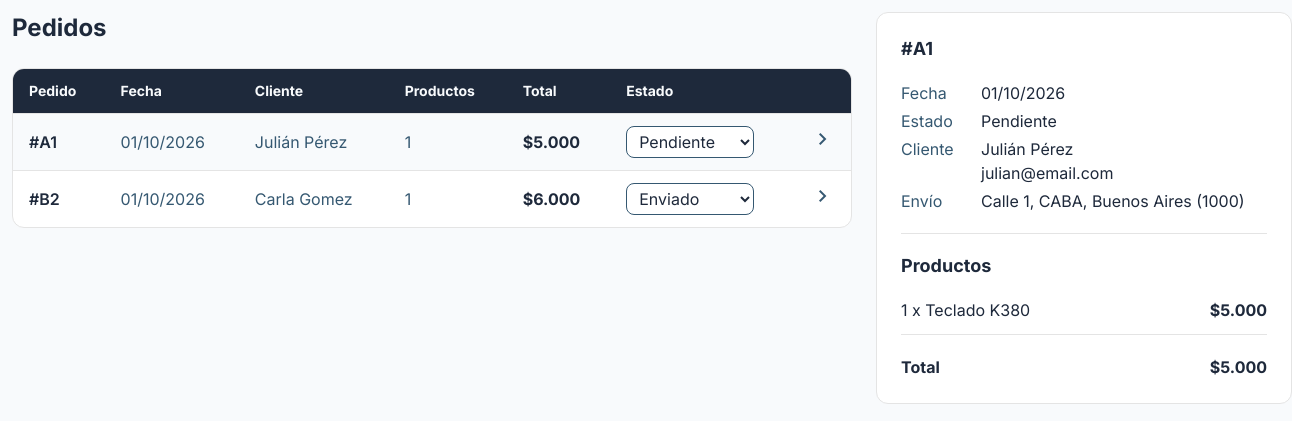
Test case: AdminOrdersPage › muestra un error y deja el estado anterior si falla la actualización
Select "Entregado" in the dropdown named "Estado del pedido #A1". click: (690, 142)
box: 626,126 -> 754,158
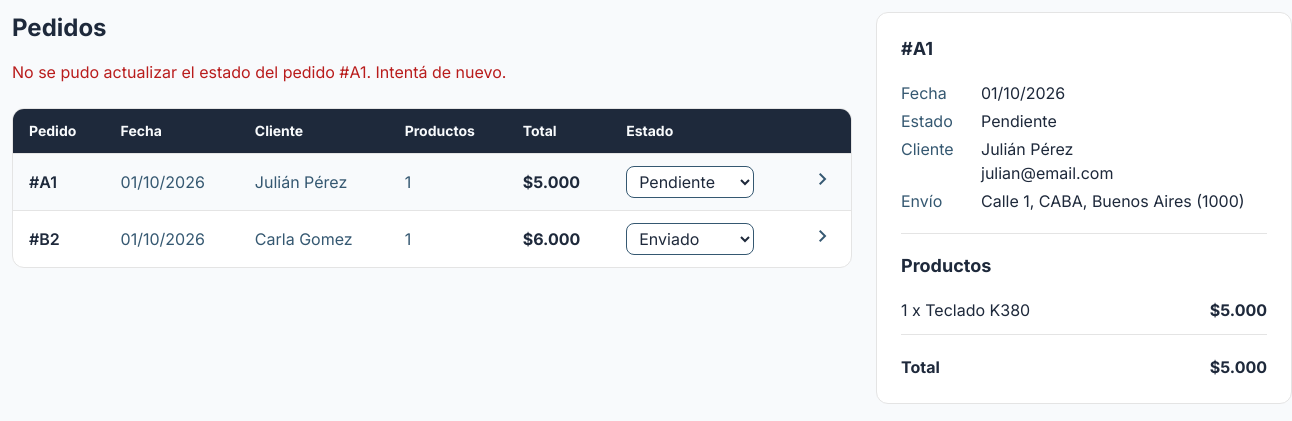
Now the message shows "No se pudo actualizar el estado del pedido #A1", box 12,62 -> 506,82
